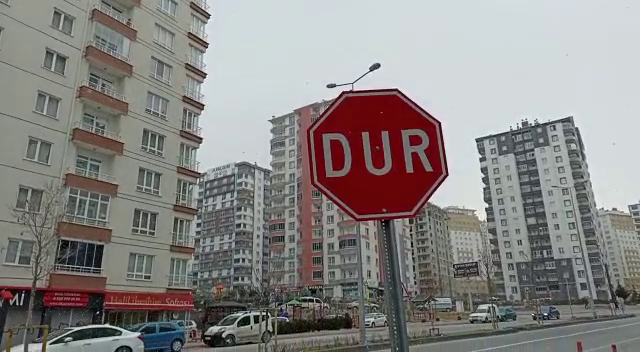stop: (303, 85, 454, 227)
